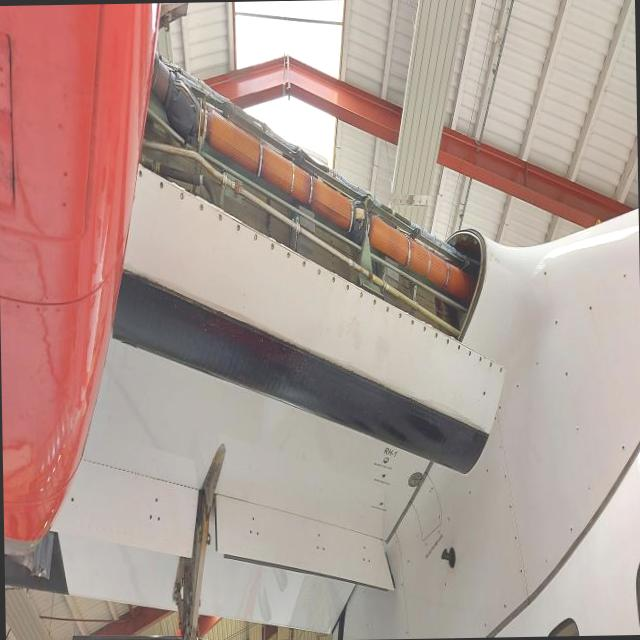Missing Fastener: (135, 164, 144, 182), (466, 344, 474, 362), (253, 226, 260, 244), (216, 210, 224, 225), (498, 362, 504, 381), (330, 272, 337, 288), (268, 238, 276, 252), (235, 220, 242, 235), (372, 294, 379, 308), (178, 190, 186, 202), (158, 176, 164, 192), (316, 262, 322, 278), (488, 355, 494, 371), (301, 257, 307, 272), (344, 282, 351, 294), (286, 250, 292, 264), (384, 303, 390, 317), (434, 326, 439, 342), (409, 314, 415, 326), (398, 304, 402, 321), (458, 338, 462, 353), (446, 336, 451, 348), (478, 352, 482, 366), (422, 320, 426, 334), (200, 200, 204, 212), (358, 288, 362, 298)
